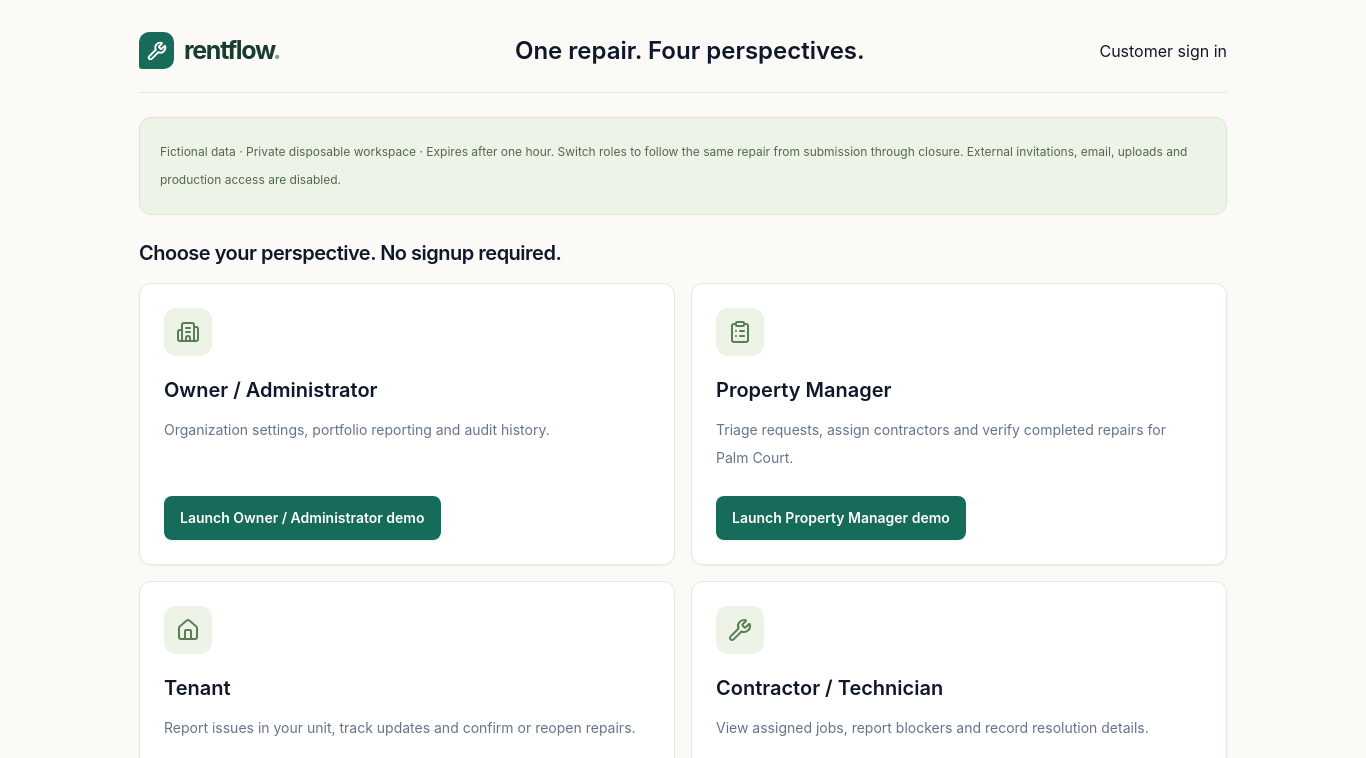
shows a recoverable error when the demo server cannot launch
The image size is (1366, 758).
What coordinates should you click on to do the following:
click the button "Launch Property Manager demo"
I would click on:
 (841, 518)
Its box is left=716, top=496, right=966, bottom=540.
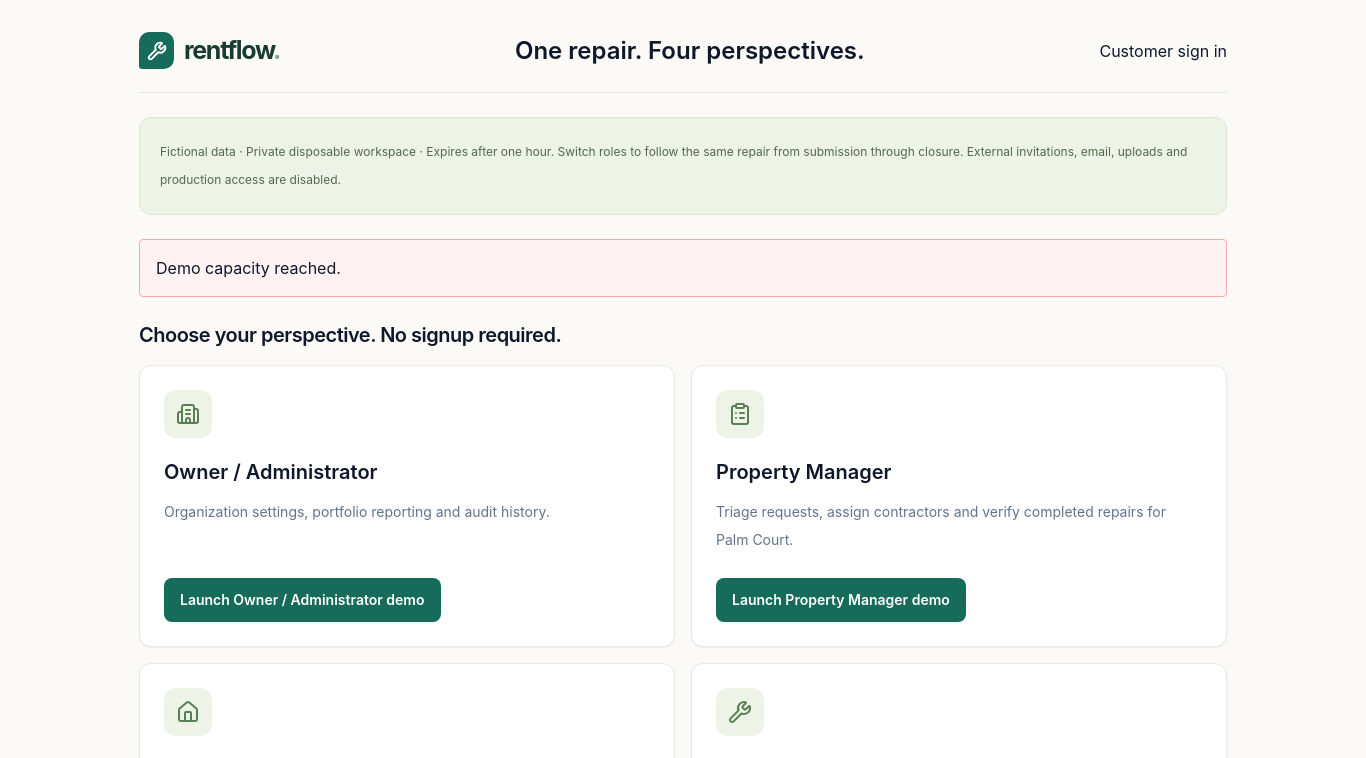
Expected: the message reads "Demo capacity reached.", left=156, top=258, right=341, bottom=278
